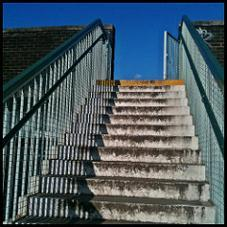Bench: (32, 127, 218, 220)
